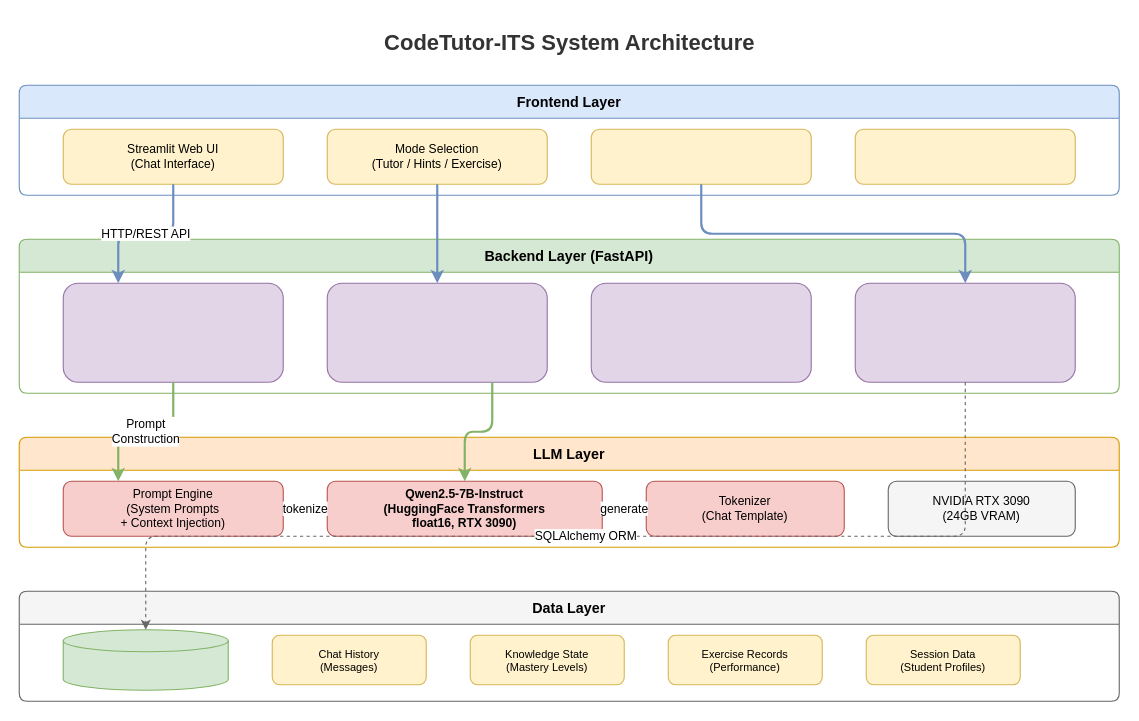
Image size: 1139x721. Some labels were removed from this diagram. Here are the shapes that lost their labels. From the top down, the centre of each, then its label:
At (x=700, y=156): "Progress Dashboard (Knowledge Map)".
At (x=964, y=156): "Chat History (Session Management)".
At (x=172, y=332): "Dialogue Tutor Module".
At (x=436, y=332): "Adaptive Hint Module (4 Levels)".
At (x=700, y=332): "Exercise Generator Module".
At (x=964, y=332): "Knowledge Tracking Module".
At (x=145, y=659): "SQLite Database".
